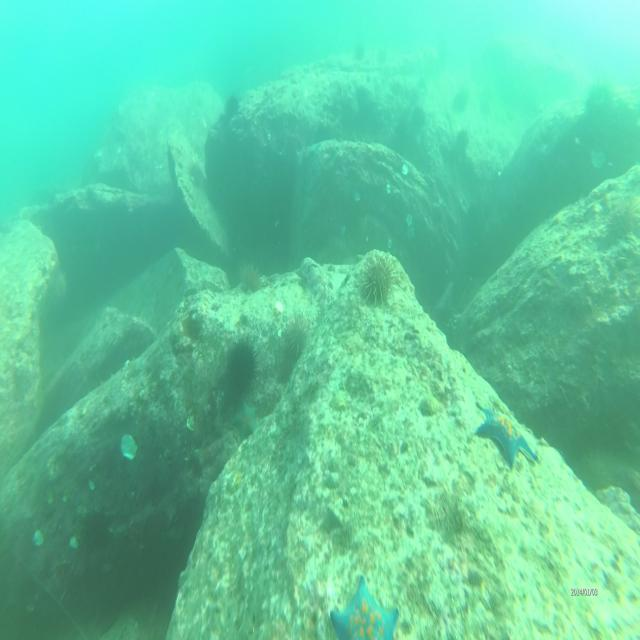echinus: (358, 252, 399, 306), (229, 336, 257, 395), (284, 313, 312, 358), (239, 260, 263, 296), (223, 94, 240, 118)
starfish: (476, 402, 540, 473), (330, 578, 400, 640)
